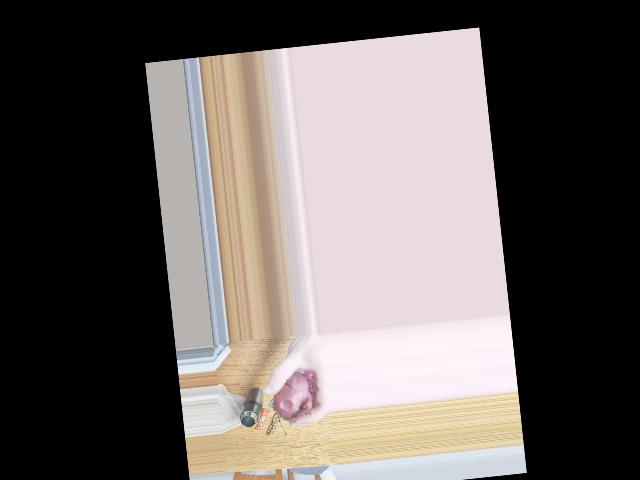onion: (276, 365, 319, 428)
